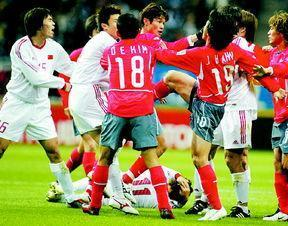Fall-Detected: (34, 153, 199, 212)
